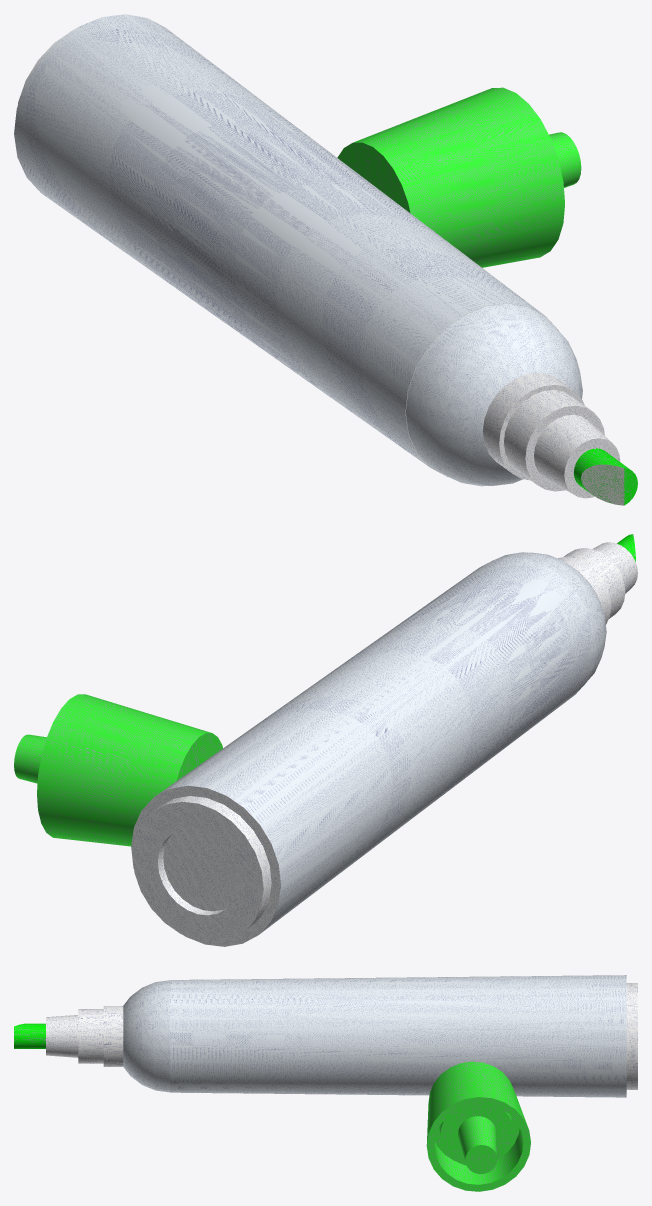
The picture shows the model from 3 angles, top to bottom: view 1: azimuth 30°, elevation 25°; view 2: azimuth 150°, elevation 25°; view 3: azimuth 270°, elevation 25°; orthographic projection. The views are drawn at different scales.
Visible parts, largest first — view 1: penshaft (×2), pencap_2 (×2), pentip (×4); view 2: penshaft (×5), pencap_2 (×2), pentip (×3); view 3: penshaft (×3), pencap_2 (×4), pentip (×4).
Boxes of the visible parts, x1,y1,x2,y2 form: penshaft (×2): (14, 14, 582, 486); pencap_2 (×2): (337, 87, 581, 267); pentip (×4): (482, 373, 637, 505); penshaft (×5): (131, 552, 606, 946); pencap_2 (×2): (14, 694, 222, 846); pentip (×3): (557, 542, 637, 624); penshaft (×3): (123, 975, 637, 1097); pencap_2 (×4): (426, 1061, 530, 1191); pentip (×4): (14, 1006, 123, 1066).
Bounding box in the file's own units: 1.82 × 3.83 × 0.8657.
